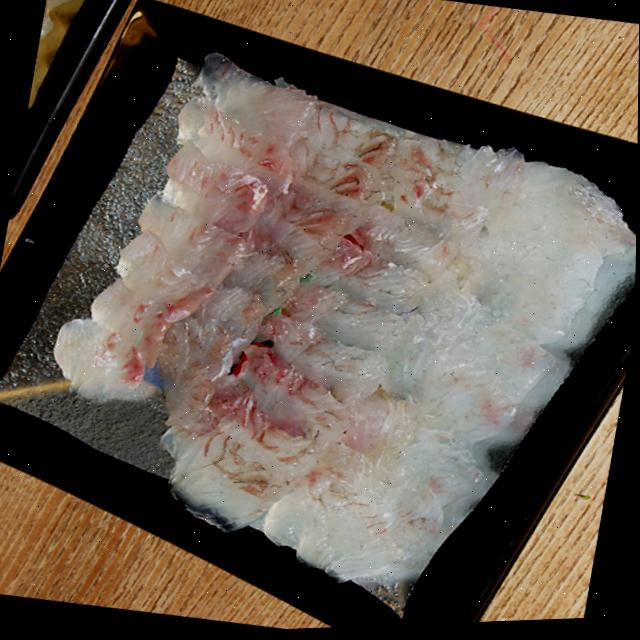刺身生食: (4, 0, 640, 640)
